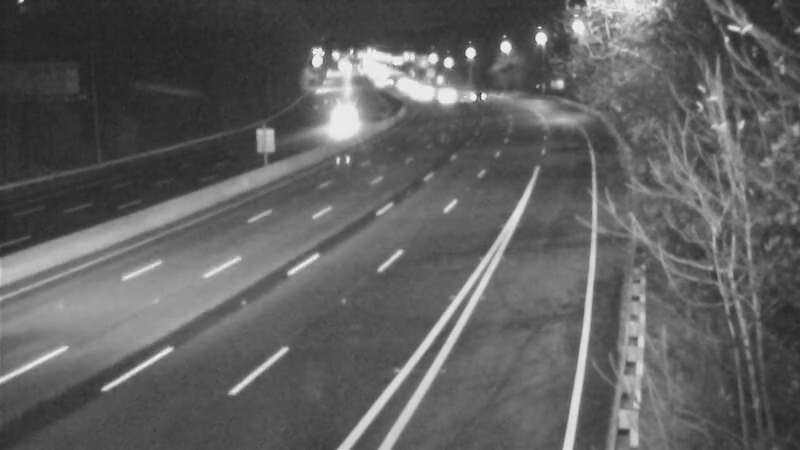vehicle: (446, 70, 496, 120), (418, 71, 468, 121), (392, 70, 442, 120), (318, 96, 368, 146)
